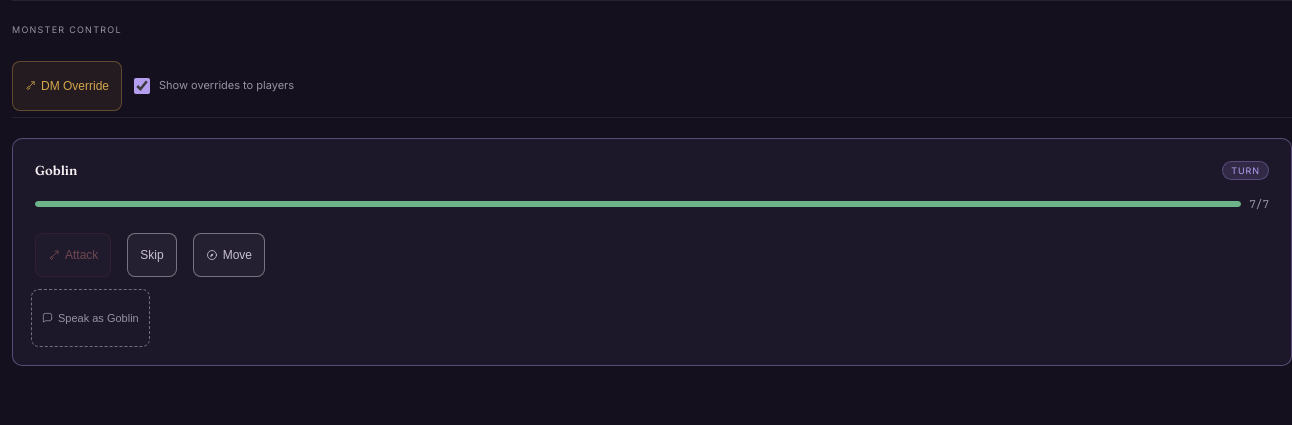
npc-action: the flag is strictly boolean true › a refusal (not_npc_turn, no state) is unchanged: one re-read, an error shown
Click the button "Skip" at (152, 254), box [127,232,177,276]
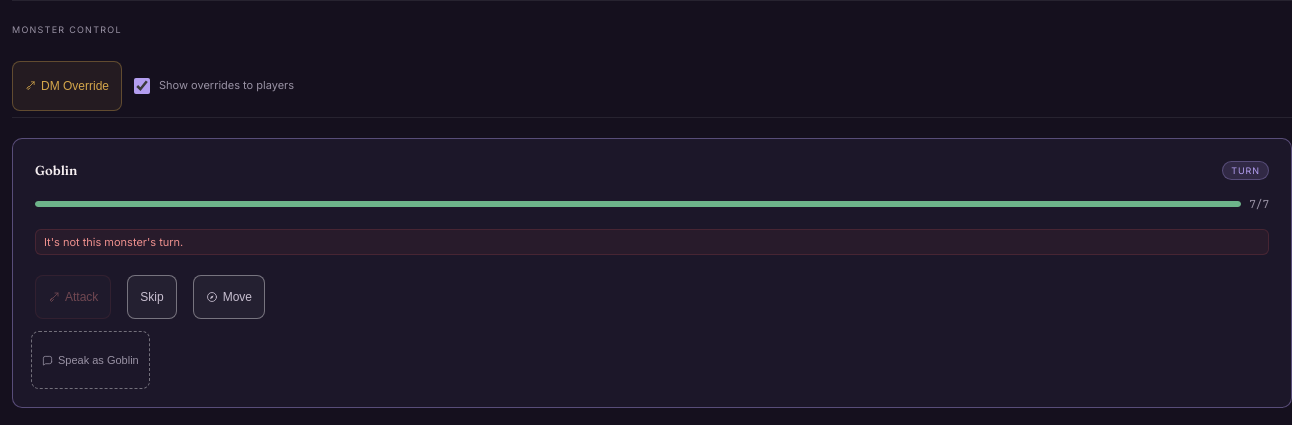
Expected: the message "It's not this monster's turn." is shown, [35,228,1269,255]
